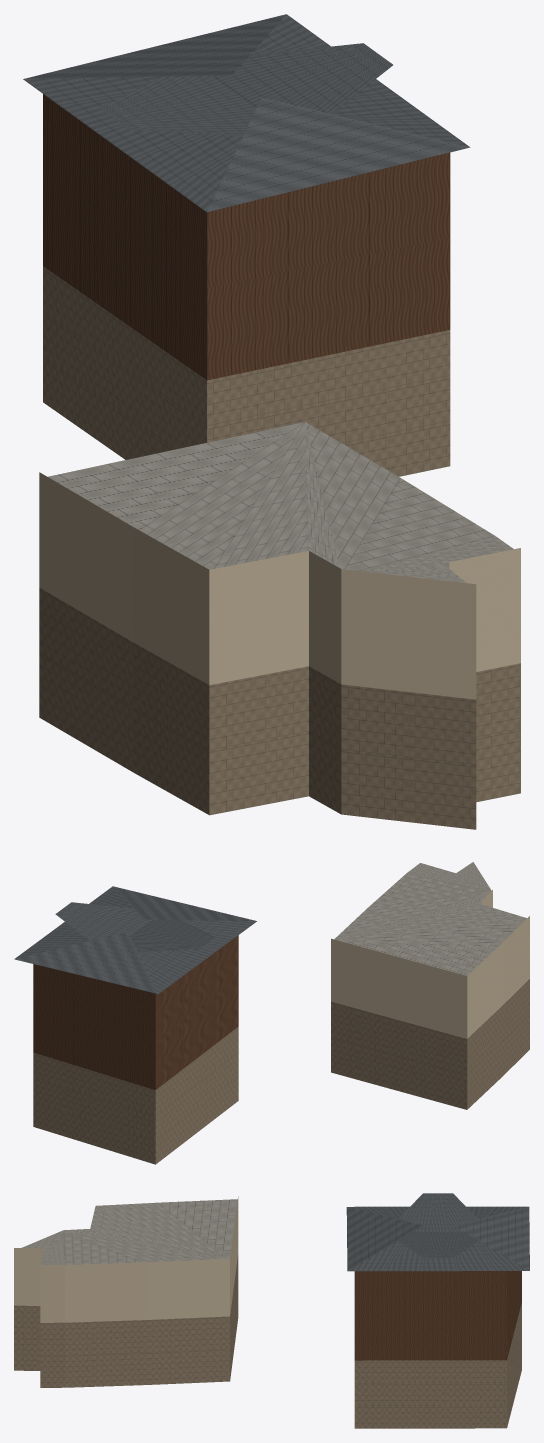
File: bld_c36_-26_444.gltf
The picture shows the model from 3 angles, top to bottom: view 1: azimuth 30°, elevation 25°; view 2: azimuth 150°, elevation 25°; view 3: azimuth 270°, elevation 25°; orthographic projection. The views are drawn at different scales.
Visible parts, largest first — view 1: bld_c36_-26_444; view 2: bld_c36_-26_444; view 3: bld_c36_-26_444.
Part boxes in pixels (x1=…): bld_c36_-26_444: x1=23, y1=14, x2=520, y2=829; bld_c36_-26_444: x1=14, y1=862, x2=529, y2=1164; bld_c36_-26_444: x1=14, y1=1193, x2=529, y2=1428.
Size of the model in its own units: 21.14 by 14.4 by 34.97.
6 materials, 6 textured.
